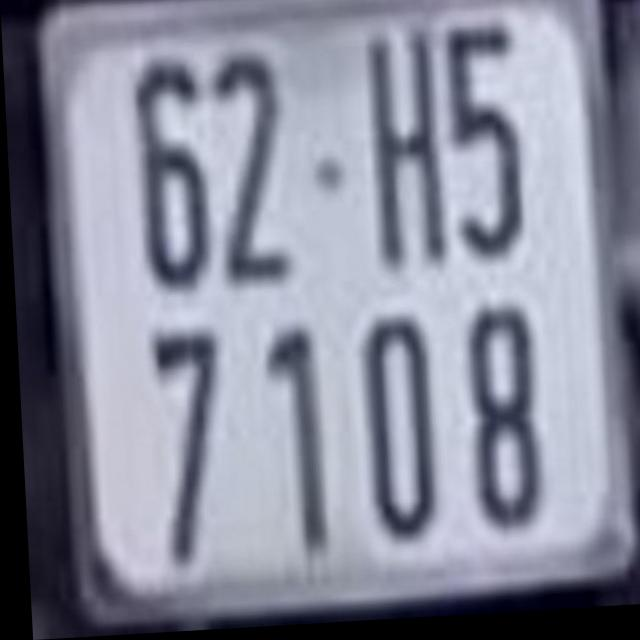0: (349, 311, 437, 551)
1: (263, 329, 330, 560)
2: (207, 46, 295, 293)
5: (446, 32, 524, 259)
6: (132, 57, 209, 291)
7: (144, 331, 232, 566)
8: (466, 307, 536, 539)
H: (366, 42, 448, 266)
